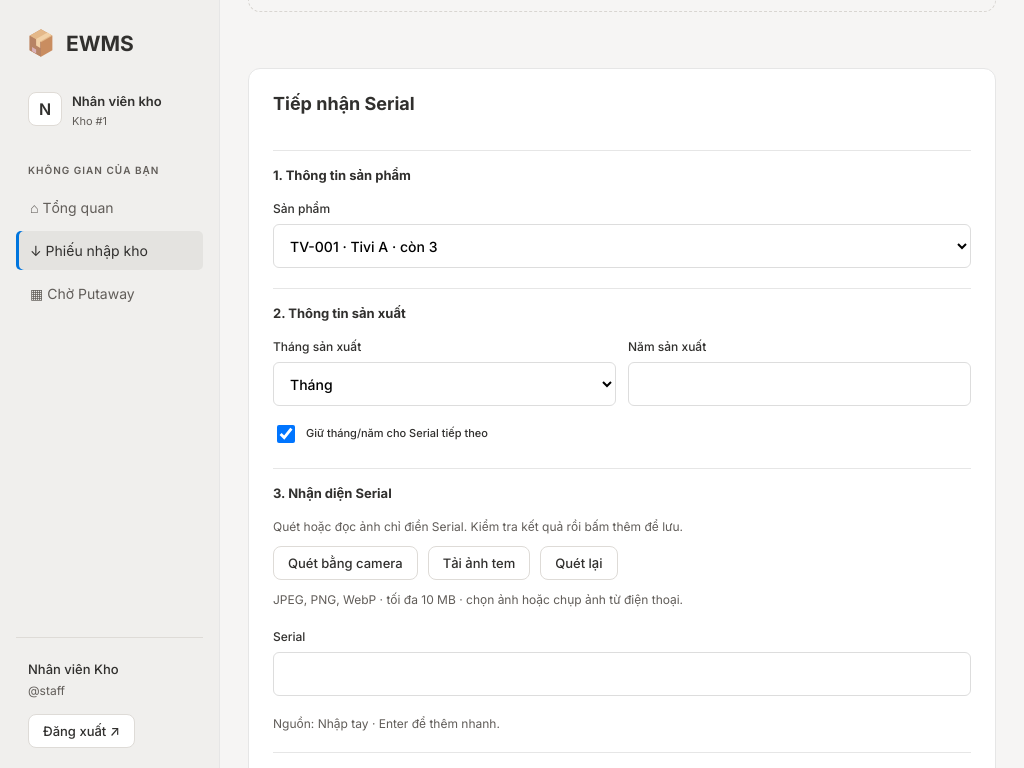
Test case: accepts damaged goods with a required condition description
The image size is (1024, 768).
(page scrolled)
Select "8" in the dropdown labelled "Tháng sản xuất" at (444, 384), box [273,362,616,406]
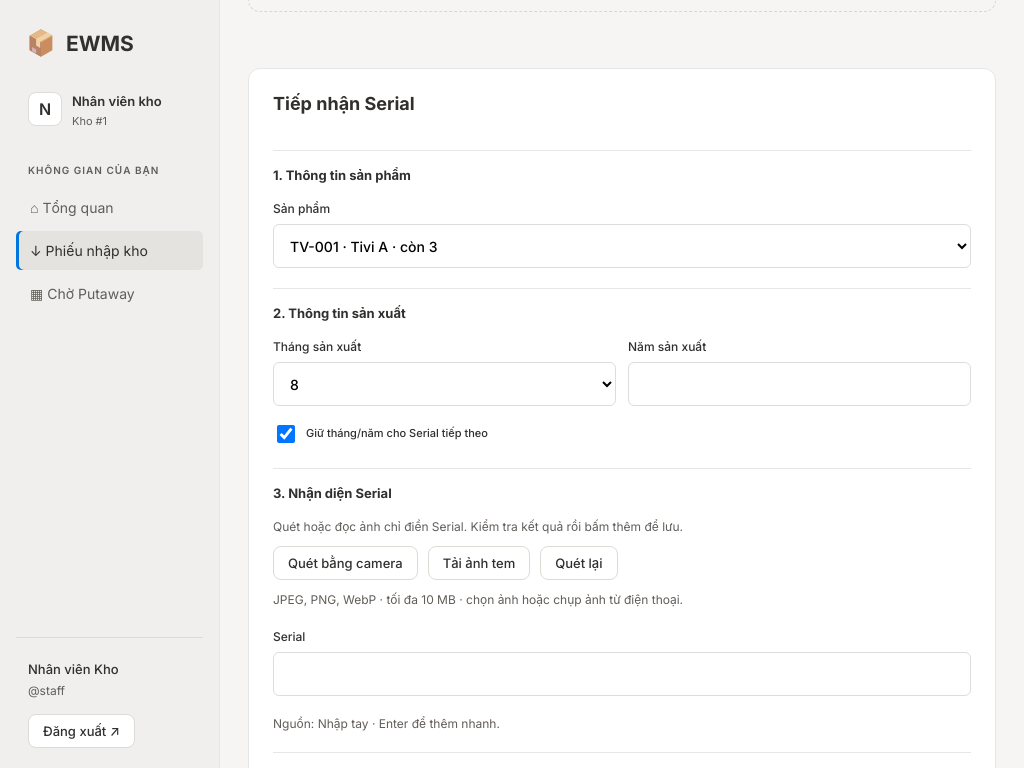
Type "2025" into the number field labelled "Năm sản xuất" at (800, 384), box [628,362,971,406]
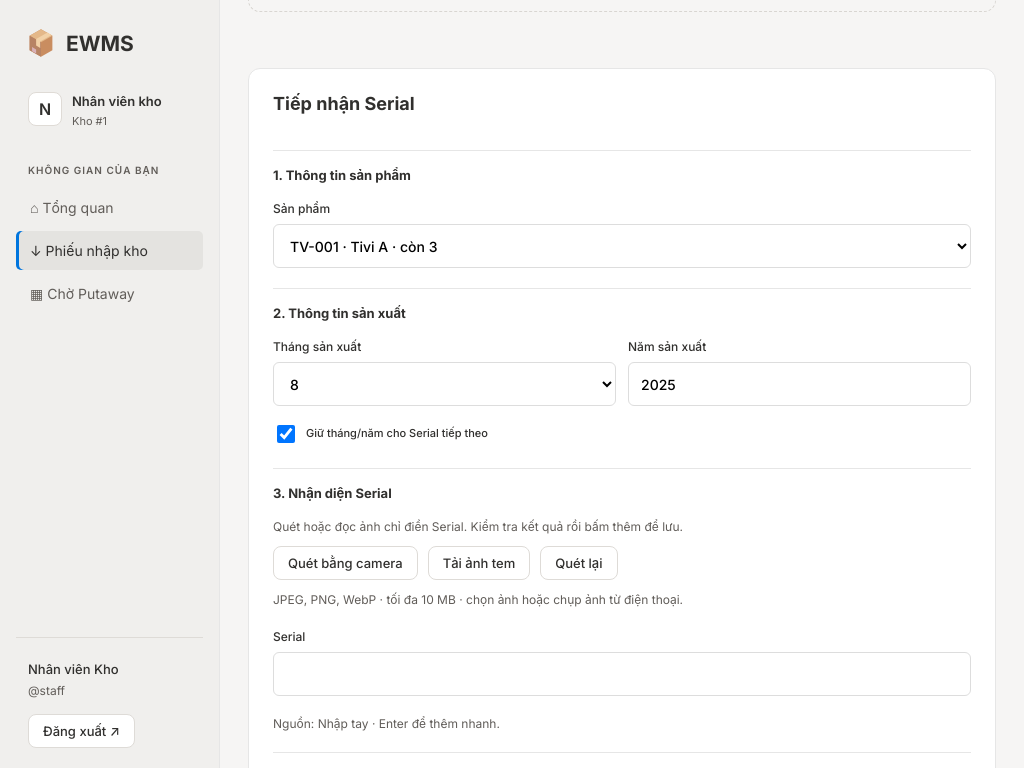
Type "MINOR-DENT-001" into the field labelled "Serial" at (622, 674), box [273,652,971,696]
(page scrolled)
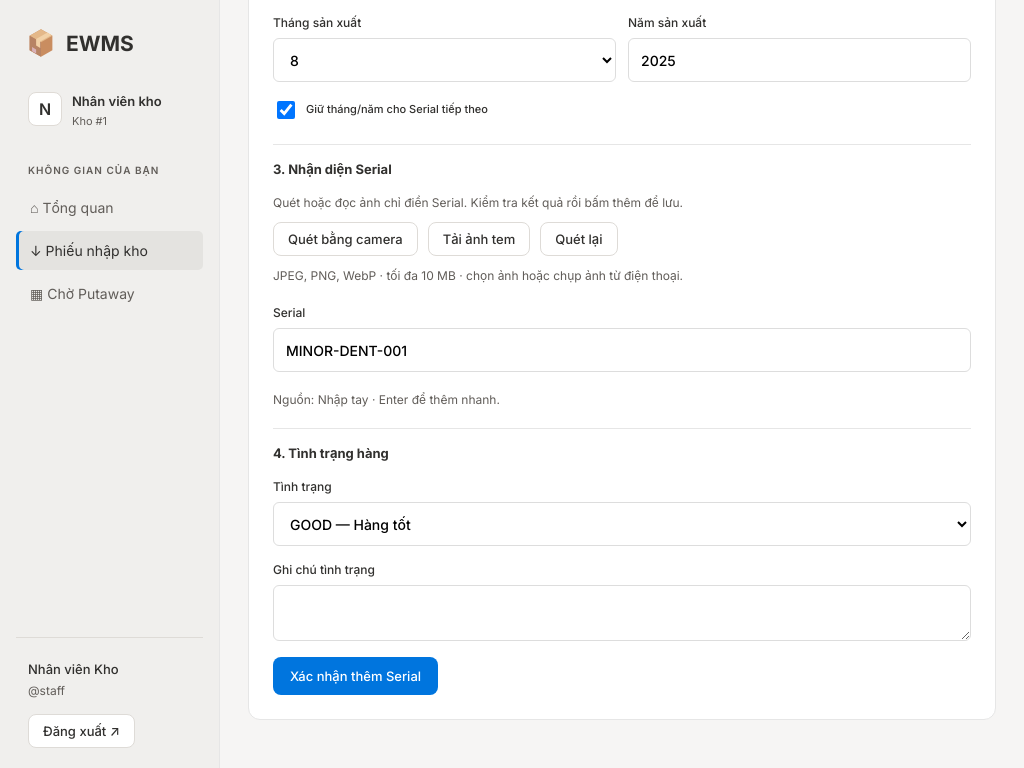
Select "DAMAGED — Hàng hỏng — nhận cách ly" in the dropdown labelled "Tình trạng" at (622, 524), box [273,502,971,546]
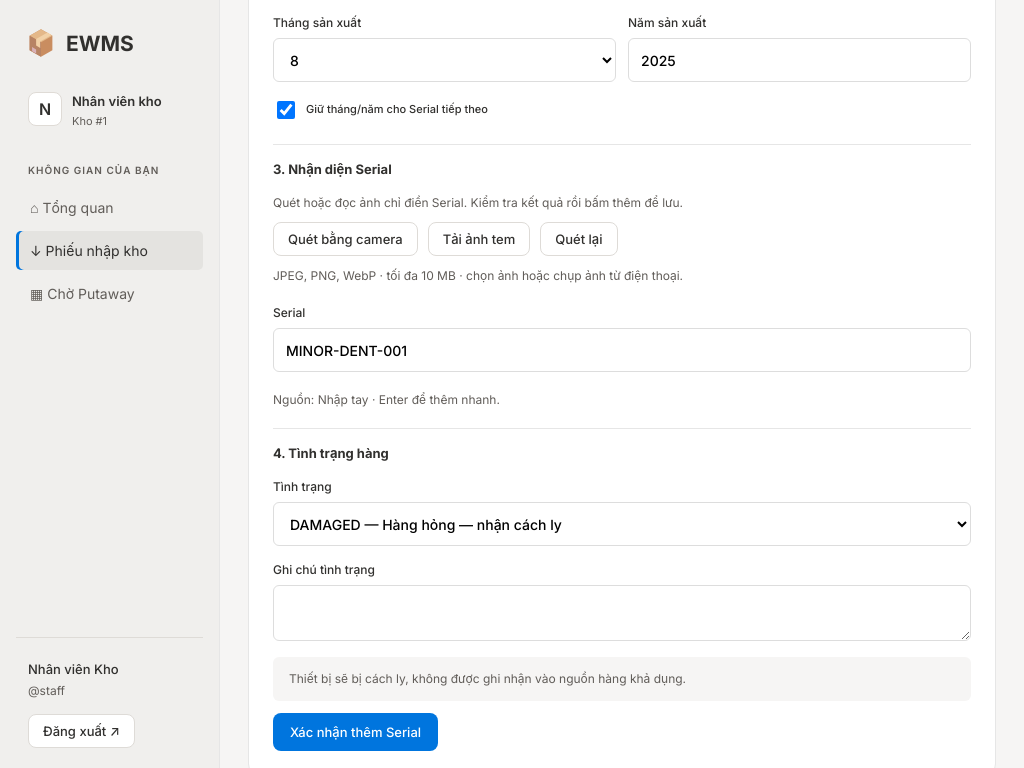
Type "Móp nhẹ vỏ ngoài, đã kiểm tra và chấp nhận cách ly." into the text box labelled "Ghi chú tình trạng" at (622, 613), box [273,585,971,641]
(page scrolled)
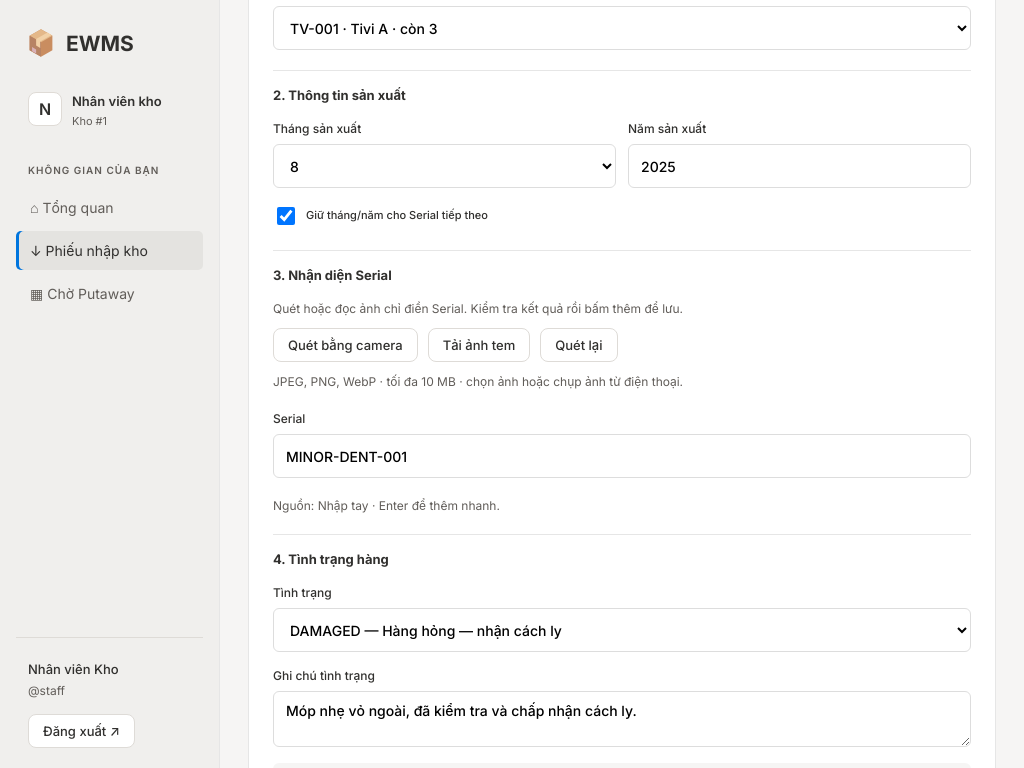
Submit the form named "Xác nhận thêm Serial"
(page scrolled)
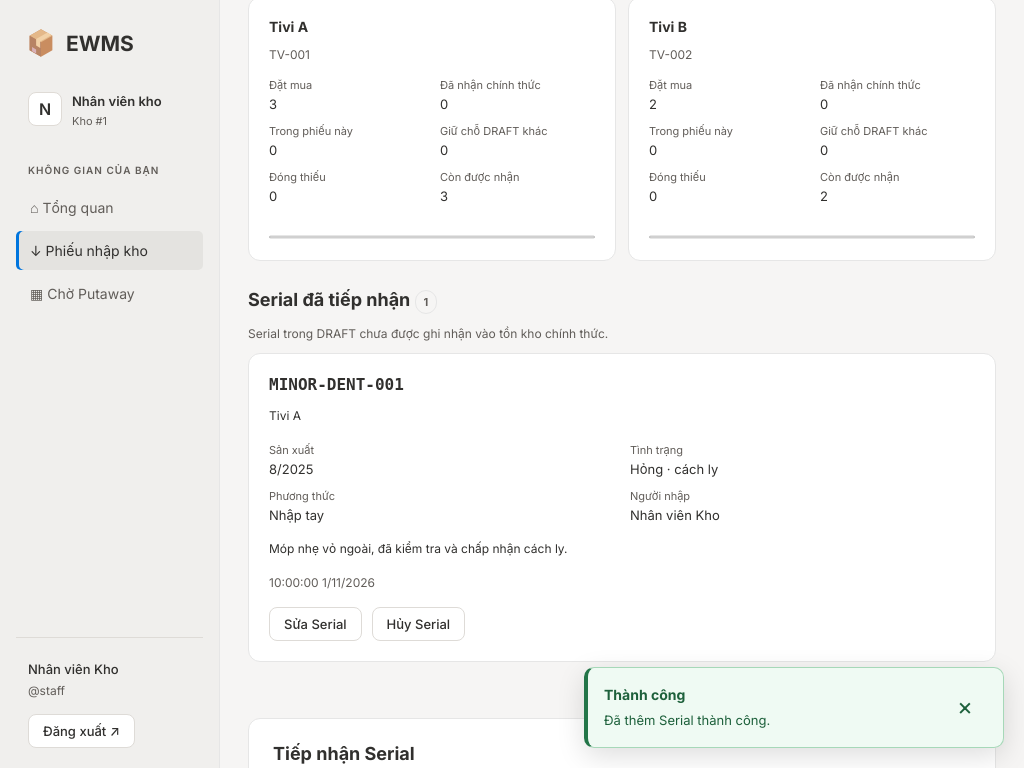
Expected: the text "MINOR-DENT-001" is shown, [269,376,404,394]
